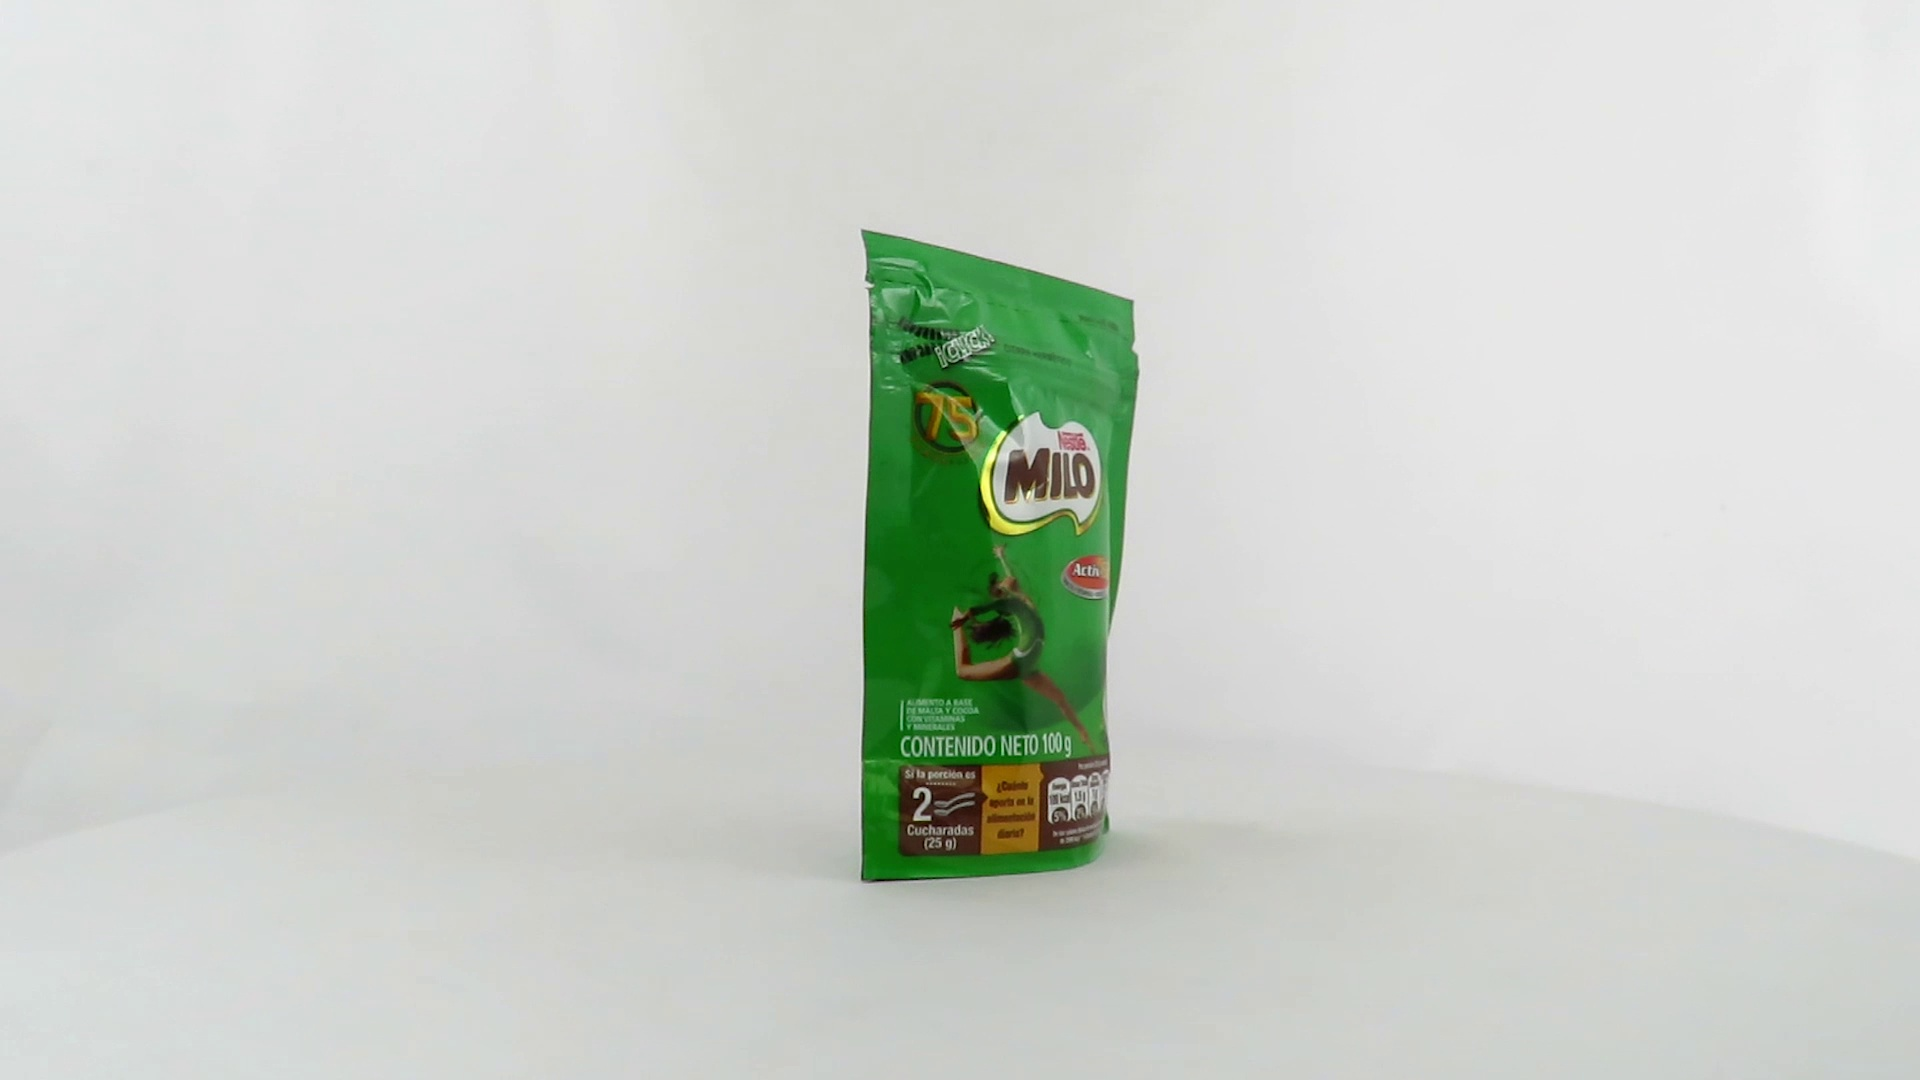COL0170203DYP10000: (856, 224, 1146, 890)
